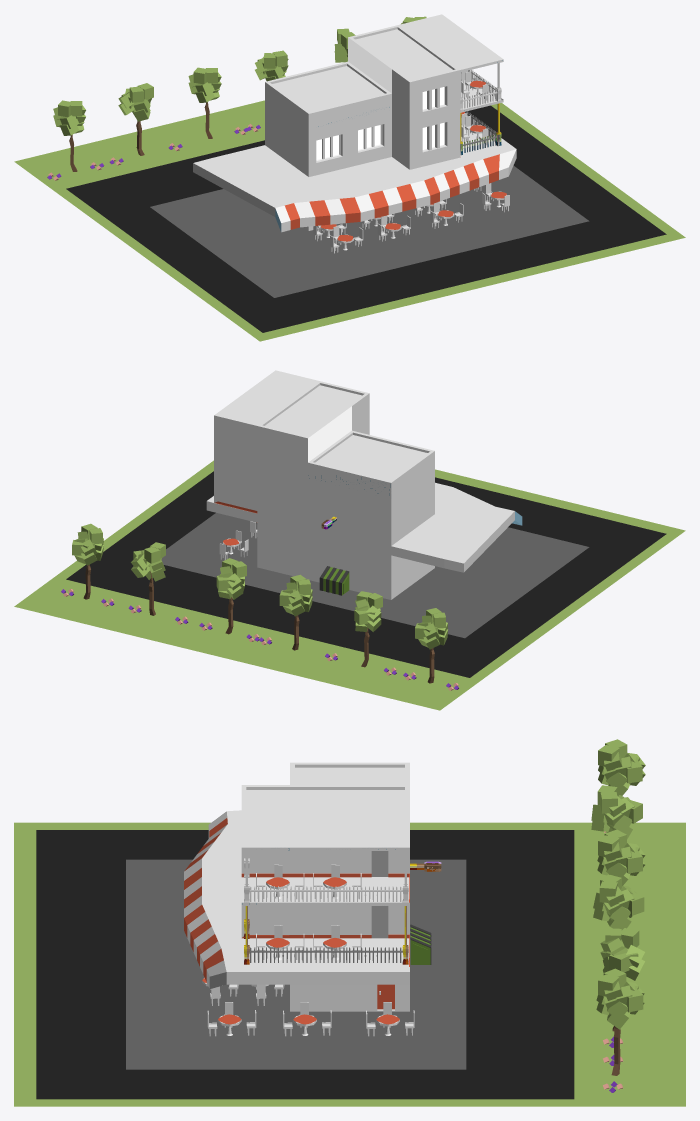
File: Restaurant.glb
The picture shows the model from 3 angles, top to bottom: view 1: azimuth 30°, elevation 25°; view 2: azimuth 150°, elevation 25°; view 3: azimuth 270°, elevation 25°; orthographic projection. The views are drawn at different scales.
Visible parts, largest first — view 1: Cube.015; view 2: Cube.015; view 3: Cube.015.
Boxes of the visible parts, x1=… form: Cube.015: x1=14, y1=14, x2=685, y2=341; Cube.015: x1=14, y1=370, x2=685, y2=710; Cube.015: x1=14, y1=739, x2=685, y2=1106.
Size of the model in its own units: 16.54 by 5.32 by 16.54.
Materials: 2 (1 with a texture image).
